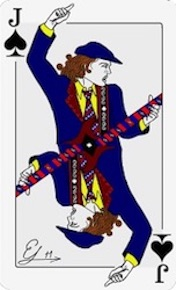JackOfSpades: (1, 1, 176, 287)
